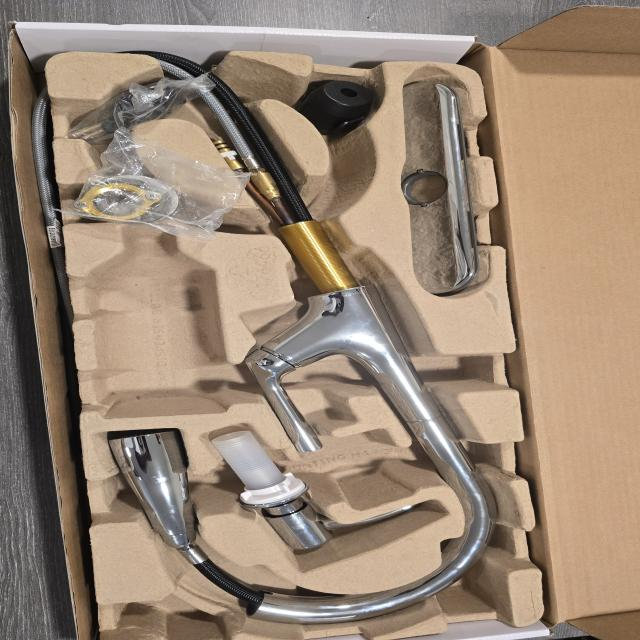1o: (107, 54, 498, 623)
2: (211, 430, 412, 552)
3m: (79, 224, 226, 420)
4: (400, 81, 475, 296)
5: (295, 81, 376, 138)
6: (59, 125, 256, 237)
7: (57, 72, 218, 147)
